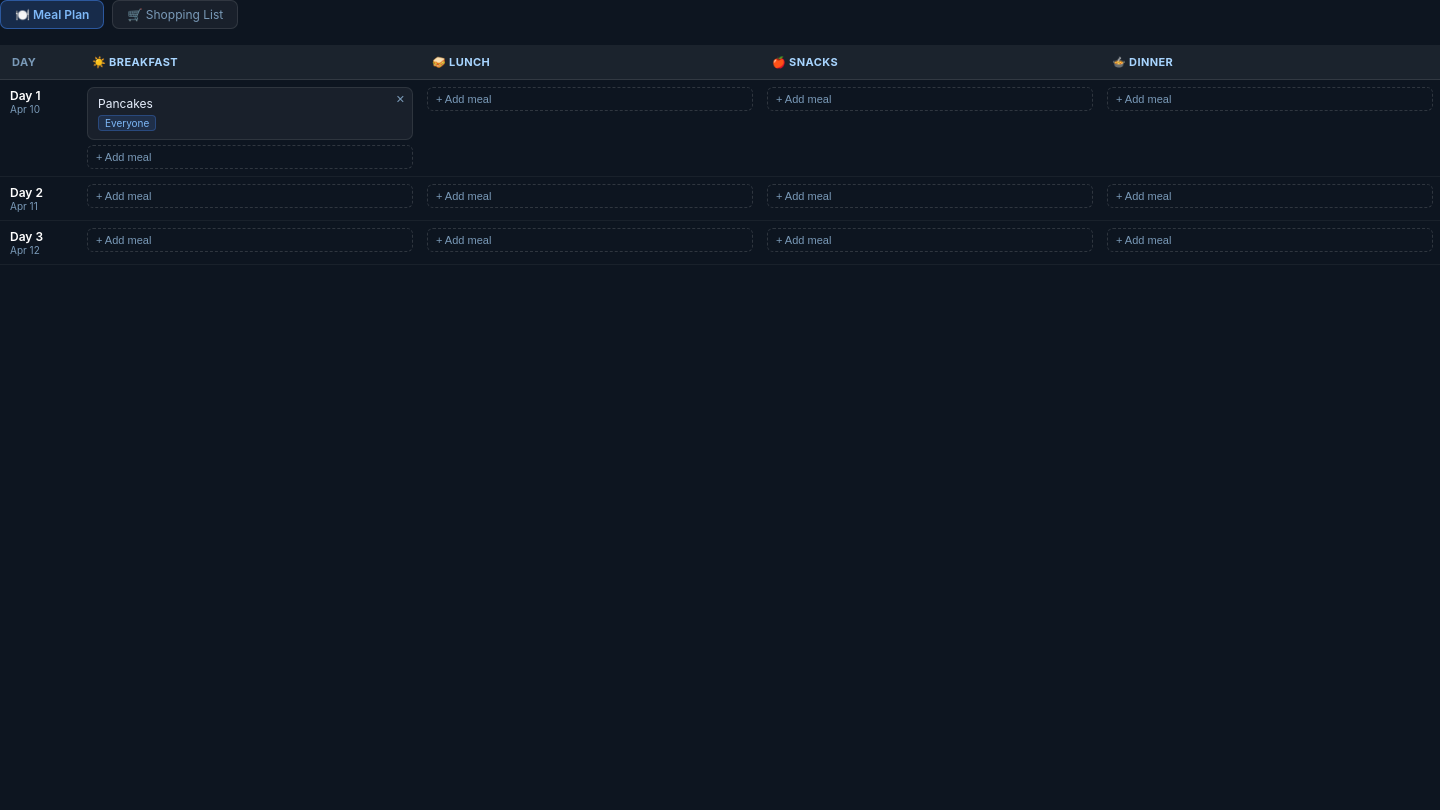
Scenario: MealsTab integration › clicking a meal card opens edit form
Click the element with test id "meal-card": (250,114) [87, 87, 413, 140]
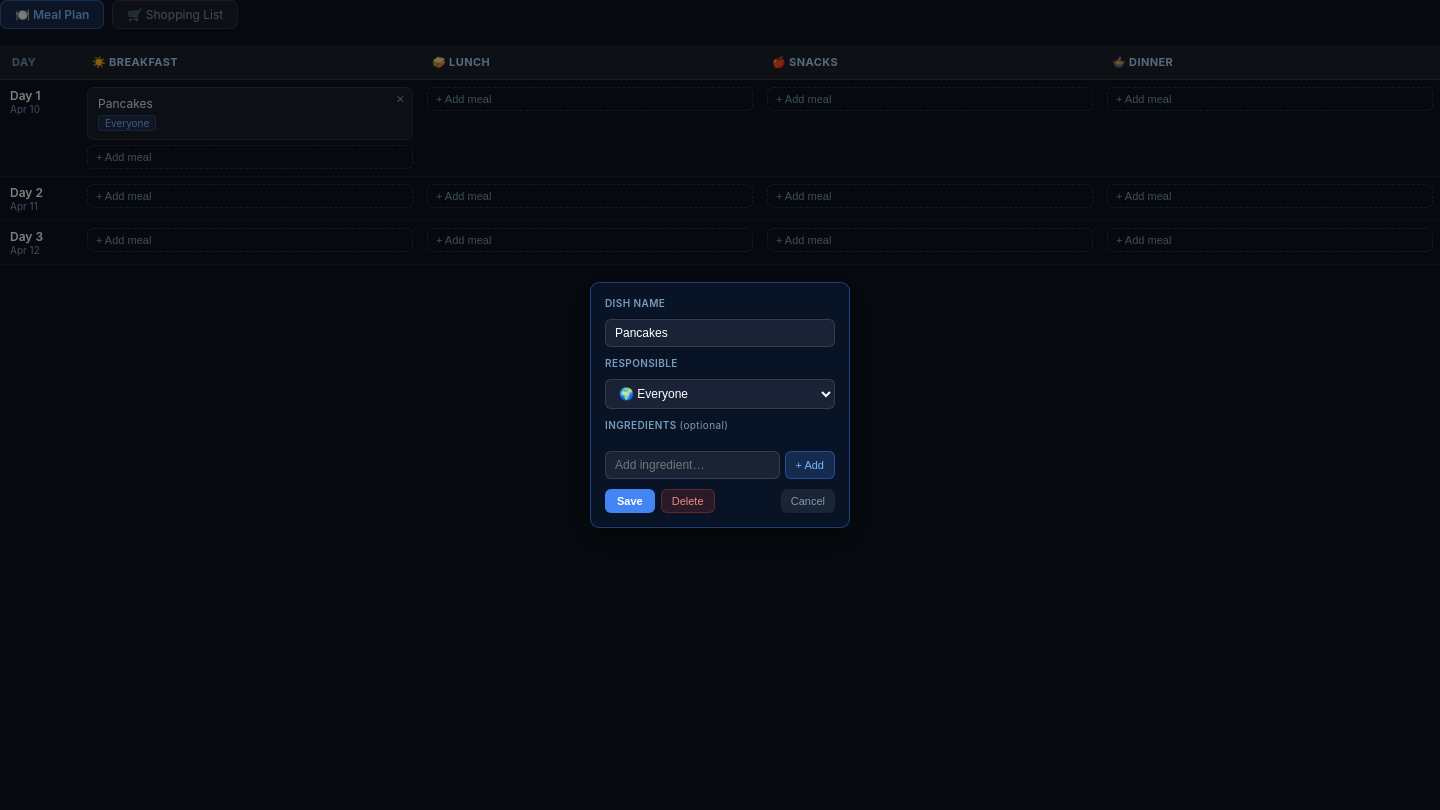
Result: the element with test id "meal-edit-form" is shown at [590, 282, 850, 528]
